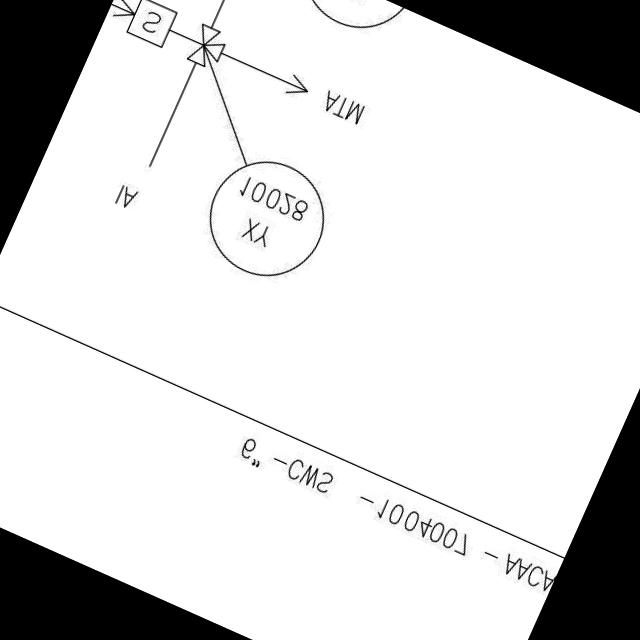3W: (180, 15, 233, 80)
SV: (119, 0, 223, 72)
